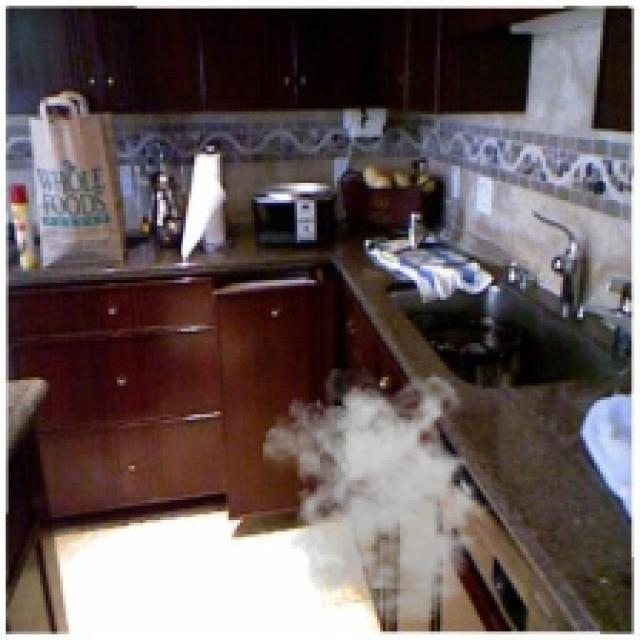Smoke: (263, 368, 503, 626)
